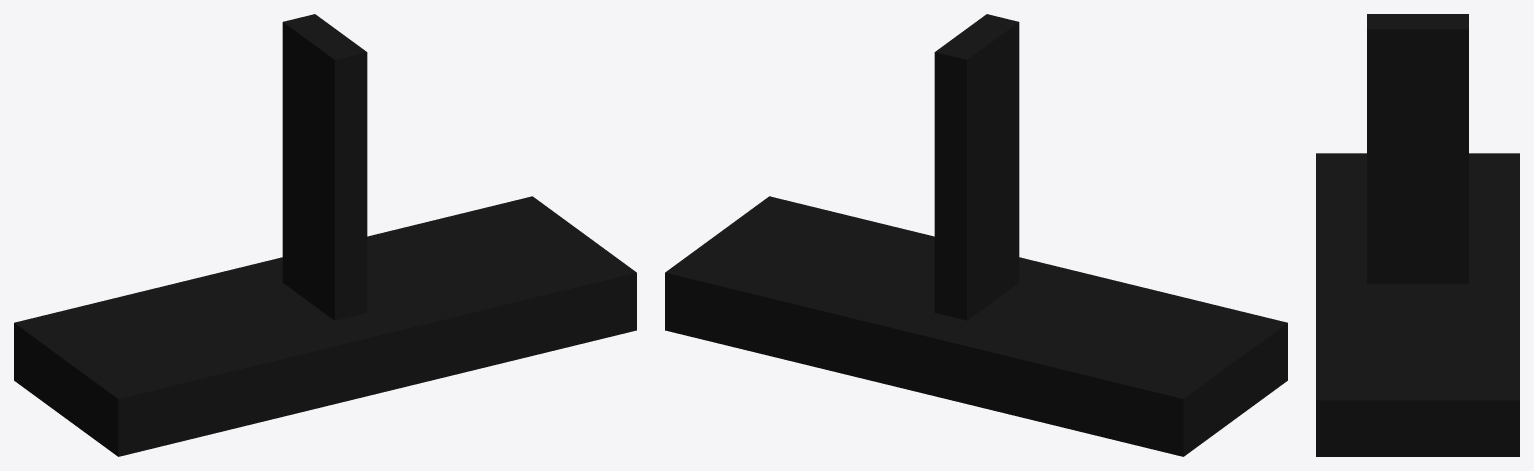
The model's file is Mesh_Static_FaroWarehouse_1.fbx.
3 renders of one model, left to right at view 1: azimuth 30°, elevation 25°; view 2: azimuth 150°, elevation 25°; view 3: azimuth 270°, elevation 25°, orthographic. The views are drawn at different scales.
Parts seen in each view (by area): view 1: farol; view 2: farol; view 3: farol.
Part boxes in pixels (x1,y1,x2,y2): farol: (14, 14, 636, 456); farol: (665, 14, 1287, 456); farol: (1316, 14, 1519, 456).
Bounding box in the file's own units: 233 × 137 × 81.18.
